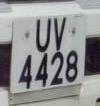2: (49, 50, 65, 89)
4: (17, 51, 36, 92), (34, 52, 51, 91)
8: (64, 45, 80, 89)
U: (34, 15, 53, 56)
V: (52, 15, 69, 53)
